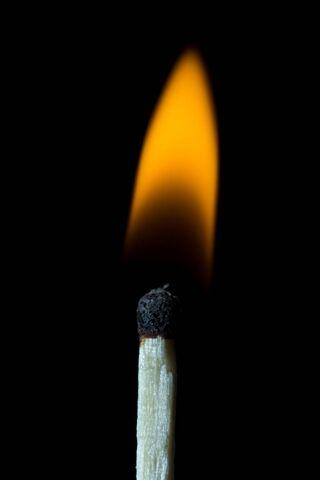Fire: (118, 41, 228, 310)
